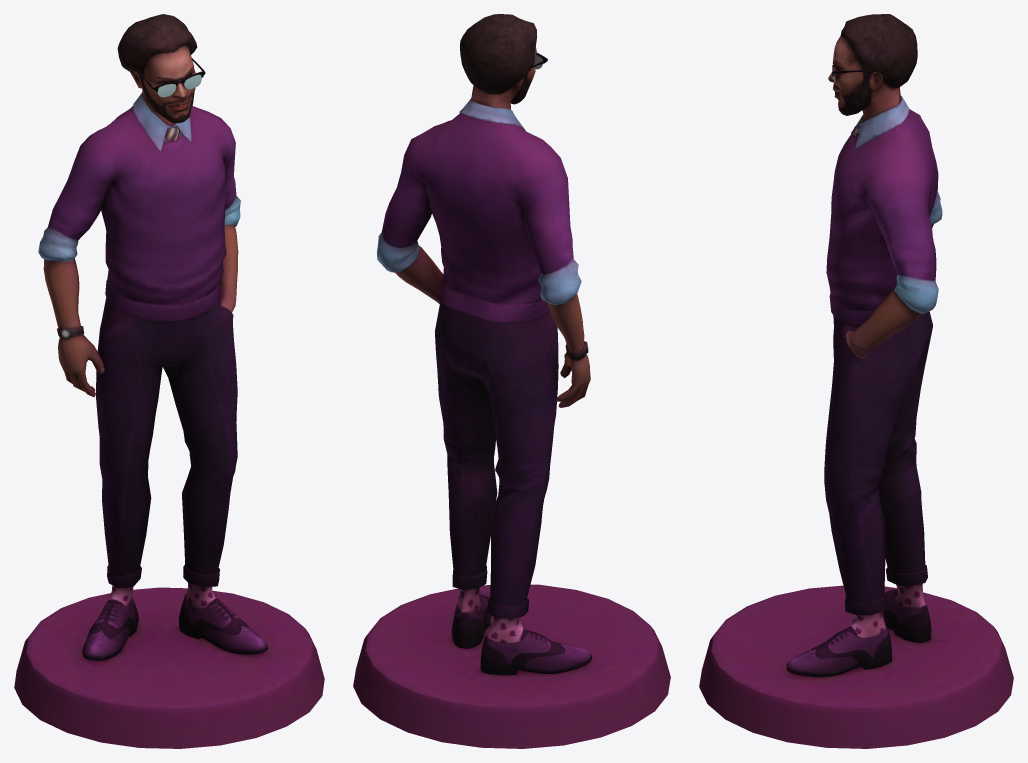
Rendered from violet_main.obj.
3 renders of one model, left to right at view 1: azimuth 30°, elevation 25°; view 2: azimuth 150°, elevation 25°; view 3: azimuth 270°, elevation 25°, orthographic. The views are drawn at different scales.
Visible parts, largest first — view 1: plumMain_0; view 2: plumMain_0; view 3: plumMain_0.
Boxes of the visible parts, x1,y1,x2,y2 form: plumMain_0: (14,14,324,748); plumMain_0: (353,14,670,748); plumMain_0: (699,14,1013,748).
Size of the model in its own units: 0.796 by 1.86 by 0.796.
